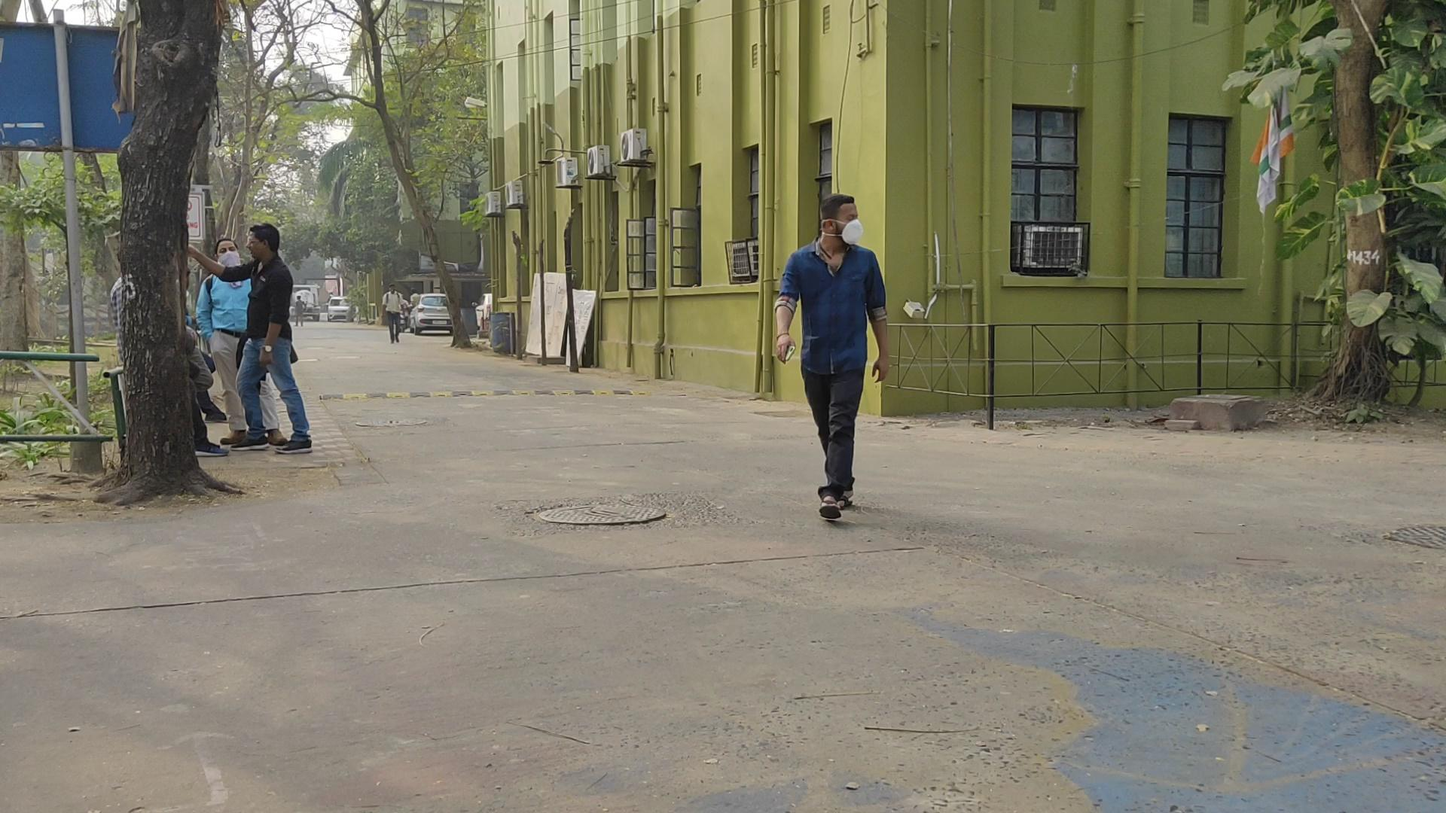bike: (326, 295, 352, 324)
car: (412, 292, 455, 338), (289, 284, 321, 323)
